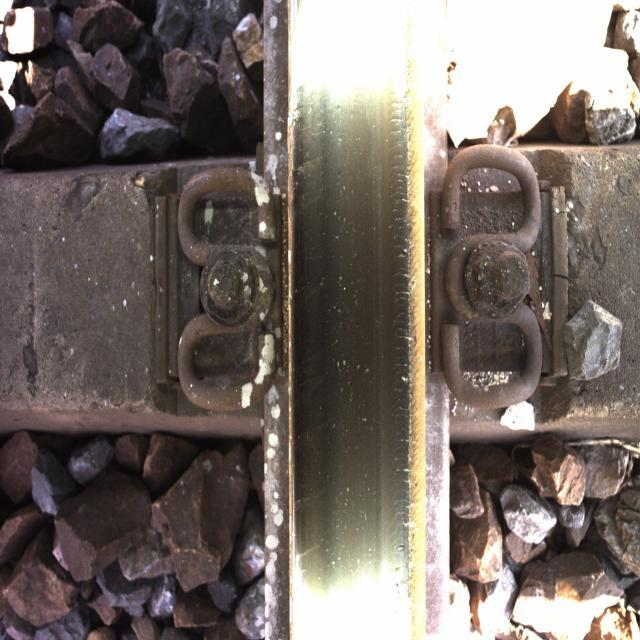normal: (286, 57, 416, 618)
